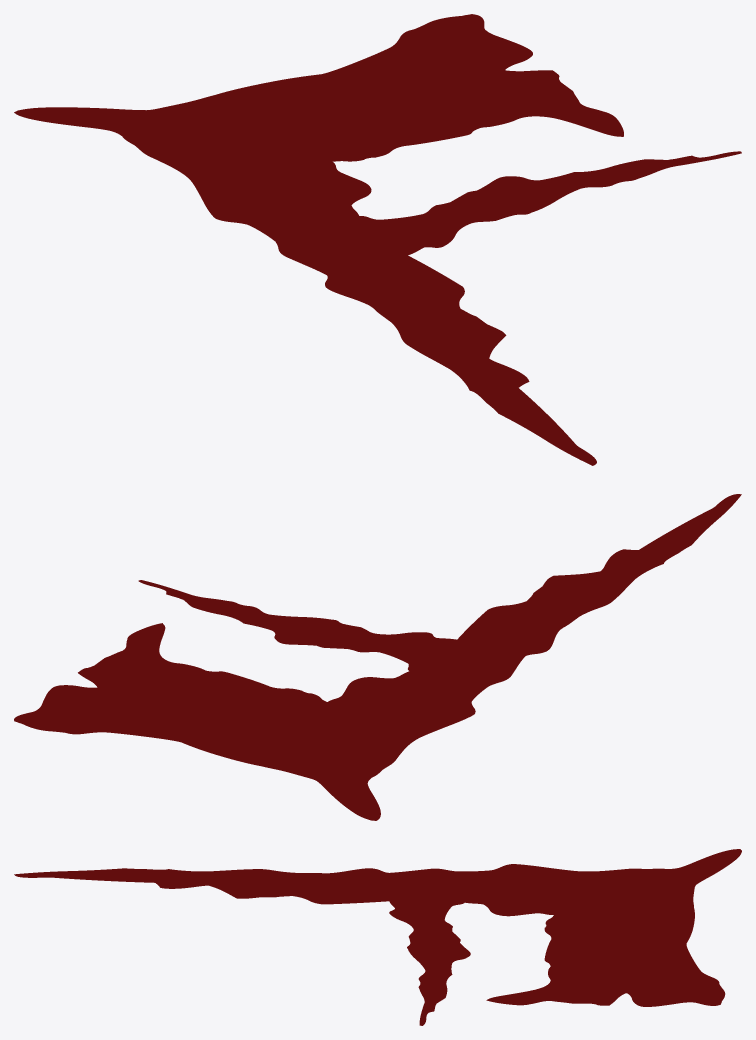
3 views of the same model, one above another, from view 1: azimuth 30°, elevation 25°; view 2: azimuth 150°, elevation 25°; view 3: azimuth 270°, elevation 25° (orthographic). The views are drawn at different scales.
Visible parts, largest first — view 1: Text; view 2: Text; view 3: Text.
Part boxes in pixels (x1,y1,x2,y2): Text: (14,14,741,465); Text: (14,494,741,820); Text: (14,849,741,1025).
Bounding box in the file's own units: 34.27 × 9.72e-06 × 59.67.
